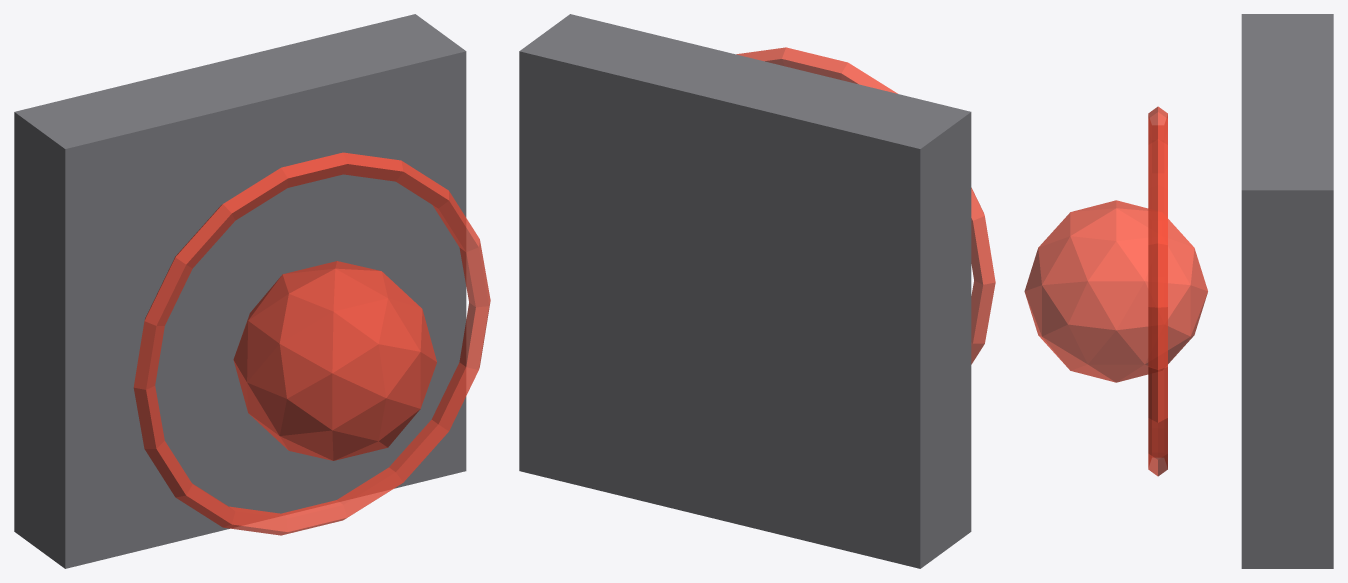
File: timing_crystal_node.glb
3 views of the same model, side by side, from view 1: azimuth 30°, elevation 25°; view 2: azimuth 150°, elevation 25°; view 3: azimuth 270°, elevation 25° (orthographic). The views are drawn at different scales.
Parts seen in each view (by area): view 1: puzzle_base, puzzle_core, rune_ring; view 2: puzzle_base, rune_ring; view 3: puzzle_base, puzzle_core, rune_ring.
Boxes of the visible parts, box(x1,y1,x2,y2) form: puzzle_base: box(14, 14, 466, 568); puzzle_core: box(233, 261, 436, 460); rune_ring: box(133, 152, 490, 535); puzzle_base: box(519, 14, 971, 568); rune_ring: box(736, 47, 995, 364); puzzle_base: box(1241, 14, 1333, 568); puzzle_core: box(1024, 200, 1207, 382); rune_ring: box(1148, 106, 1167, 476).
Size of the model in its own units: 1 by 1 by 0.74.
